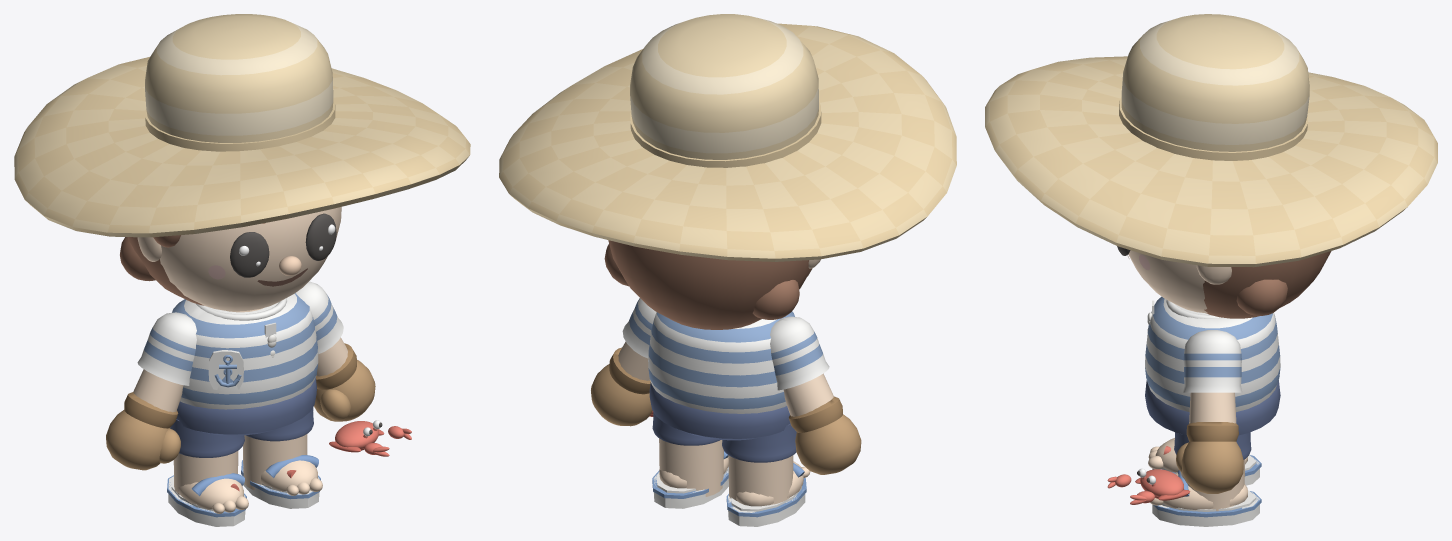
The model's file is pescador_suave.glb.
3 renders of one model, left to right at view 1: azimuth 30°, elevation 25°; view 2: azimuth 150°, elevation 25°; view 3: azimuth 270°, elevation 25°, orthographic.
Visible parts, largest first — view 1: ala_d6ab68, ala_e0ba79, copa_e0ba79, cabeza, copa_eed3a0, camisa_4a6ca8, camisa_f3f3ef, shorts, guante1_8a592f, manga1_f3f3ef, pierna-1, cyl (+23 smaller); view 2: ala_d6ab68, ala_e0ba79, copa_e0ba79, pelo, copa_eed3a0, camisa_4a6ca8, camisa_f3f3ef, shorts, guante1_8a592f, pierna-1, pierna1, manga1_f3f3ef (+15 smaller); view 3: ala_d6ab68, ala_e0ba79, copa_e0ba79, copa_eed3a0, camisa_4a6ca8, camisa_f3f3ef, pelo, guante-1_8a592f, cabeza, manga-1_f3f3ef, shorts, cyl (+9 smaller).
Part boxes in pixels (left/top/right/bottom): ala_d6ab68: left=14, top=57, right=470, bottom=237; ala_e0ba79: left=14, top=64, right=469, bottom=237; copa_e0ba79: left=145, top=14, right=333, bottom=142; cabeza: left=160, top=207, right=341, bottom=311; copa_eed3a0: left=145, top=23, right=333, bottom=135; camisa_4a6ca8: left=172, top=293, right=317, bottom=404; camisa_f3f3ef: left=180, top=293, right=318, bottom=409; shorts: left=176, top=378, right=316, bottom=435; guante1_8a592f: left=106, top=410, right=170, bottom=470; manga1_f3f3ef: left=137, top=312, right=196, bottom=385; pierna-1: left=243, top=434, right=307, bottom=490; cyl: left=145, top=100, right=335, bottom=151; ala_d6ab68: left=499, top=23, right=956, bottom=261; ala_e0ba79: left=499, top=25, right=956, bottom=261; copa_e0ba79: left=630, top=14, right=818, bottom=159; pelo: left=608, top=240, right=811, bottom=329; copa_eed3a0: left=630, top=17, right=818, bottom=153; camisa_4a6ca8: left=648, top=311, right=794, bottom=409; camisa_f3f3ef: left=648, top=312, right=786, bottom=413; shorts: left=649, top=382, right=790, bottom=440; guante1_8a592f: left=795, top=414, right=861, bottom=474; pierna-1: left=659, top=438, right=723, bottom=496; pierna1: left=728, top=455, right=793, bottom=504; manga1_f3f3ef: left=770, top=316, right=829, bottom=390; ala_d6ab68: left=985, top=56, right=1437, bottom=267; ala_e0ba79: left=985, top=56, right=1437, bottom=266; copa_e0ba79: left=1121, top=14, right=1309, bottom=151; copa_eed3a0: left=1121, top=20, right=1309, bottom=144; camisa_4a6ca8: left=1145, top=296, right=1280, bottom=407; camisa_f3f3ef: left=1145, top=299, right=1280, bottom=411; pelo: left=1203, top=251, right=1331, bottom=318; guante-1_8a592f: left=1181, top=441, right=1243, bottom=493; cabeza: left=1128, top=250, right=1207, bottom=313; manga-1_f3f3ef: left=1183, top=330, right=1242, bottom=392; shorts: left=1145, top=380, right=1280, bottom=435; cyl: left=1119, top=97, right=1307, bottom=160.
Size of the model in its own units: 96.6 by 108 by 95.71.
